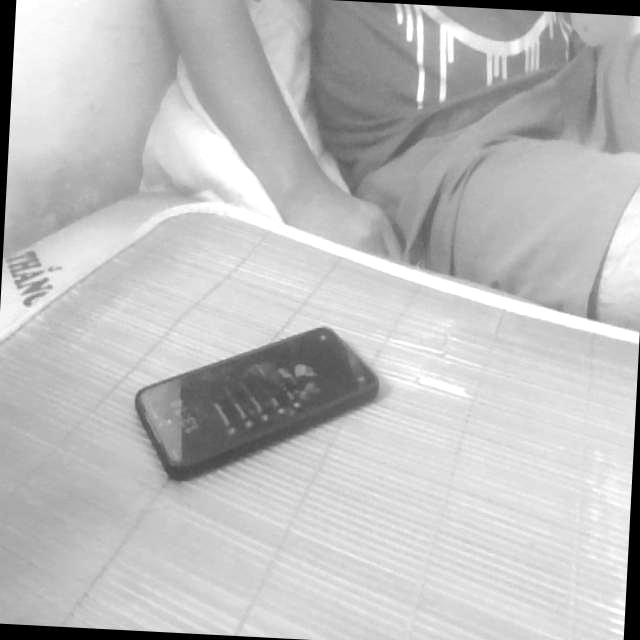phone: (115, 301, 398, 510)
